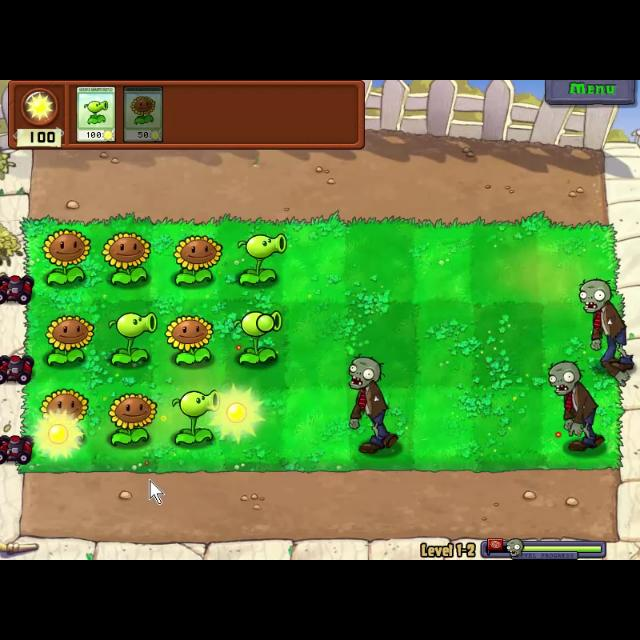Garden: (21, 216, 625, 474)
Menu Button: (544, 80, 636, 106)
Mower: (0, 354, 34, 386), (0, 435, 34, 467), (1, 274, 36, 304)
Peashooter Seed: (228, 308, 288, 369), (232, 231, 290, 291), (102, 307, 154, 371), (168, 387, 224, 445)
Seed Panel: (7, 80, 366, 154)
Sun: (208, 386, 268, 444), (33, 412, 87, 462)
Sunflower: (123, 86, 163, 142)
Sunflower Seed: (162, 310, 220, 372), (166, 233, 226, 289), (38, 225, 92, 287), (98, 228, 152, 288), (44, 314, 98, 368), (106, 392, 156, 450), (36, 386, 92, 422)
Zombie: (578, 274, 640, 376), (540, 360, 606, 454), (347, 356, 399, 454)
